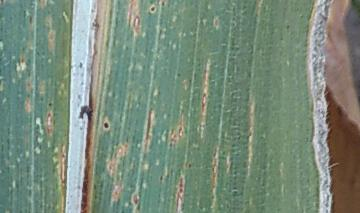tarspot: (100, 116, 116, 135), (40, 99, 57, 112), (146, 1, 160, 16), (284, 18, 294, 37), (156, 172, 167, 187), (174, 69, 186, 81), (184, 158, 194, 171)
